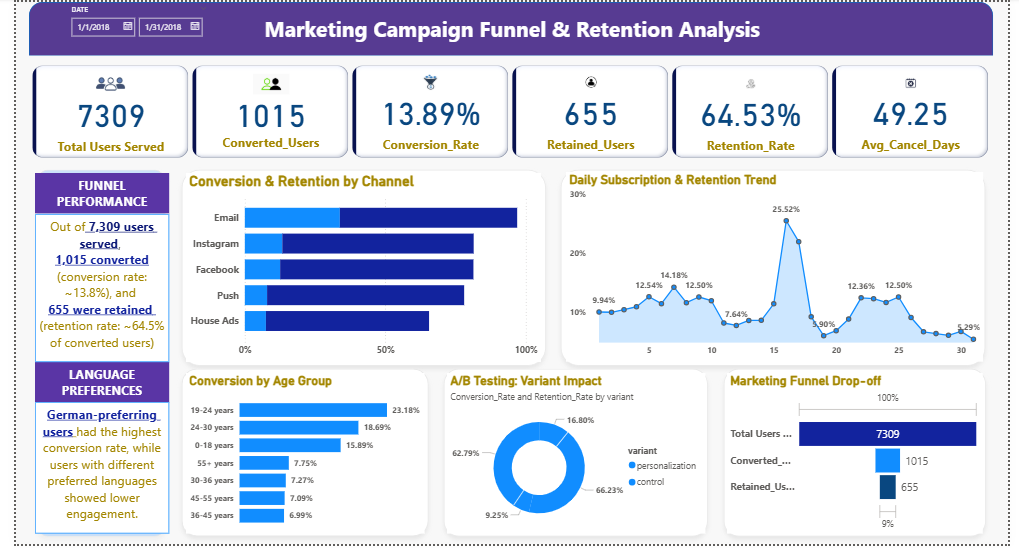

The page's visual inventory and layout, read from the dashboard file:
{"tool":"powerbi","page":{"name":"Report","canvas":[1500,820],"ordinal":0},"visuals":[{"type":"cardVisual","fields":{"Data":["_Measures.Total Users Served","_Measures.Converted_Users","_Measures.Conversion_Rate","_Measures.Retained_Users","_Measures.Retention_Rate","_Measures.Avg_Cancel_Days"]},"box":[20,91.4,1458.6,150],"z":0},{"type":"shape","box":[20,0,1458.6,81.4],"z":1000},{"type":"textbox","box":[344.3,14.3,811.4,54.3],"z":2000},{"type":"shape","box":[238.6,241.4,574.3,320],"z":3000},{"type":"barChart","title":"Conversion & Retention by Channel","fields":{"Category":["Marketing_Cleaned.marketing_channel"],"Y":["_Measures.Conversion_Rate","_Measures.Retention_Rate"]},"box":[257.1,258.6,537.1,285.7],"z":4000},{"type":"shape","box":[812.9,241.4,665.7,320],"z":5000},{"type":"slicer","title":"Daily Subscription & Retention Trend","fields":{"Values":["Marketing_Cleaned.date_served"]},"box":[71.4,0,230,81.4],"z":6000},{"type":"shape","box":[238.3,543.3,396.7,276.7],"z":7000},{"type":"shape","box":[635.7,542.9,422.9,277.1],"z":8000},{"type":"shape","box":[1058.6,542.9,420,277.1],"z":9000},{"type":"barChart","title":"Conversion by Age Group","fields":{"Category":["Marketing_Cleaned.age_group"],"Y":["_Measures.Conversion_Rate"]},"box":[257.5,561.7,360.8,242.5],"z":10000},{"type":"funnel","title":"Marketing Funnel Drop-off","fields":{"Y":["_Measures.Total Users Served","_Measures.Converted_Users","_Measures.Retained_Users"]},"box":[1075.7,561.4,387.1,242.9],"z":11000},{"type":"donutChart","title":"A/B Testing: Variant Impact","fields":{"Category":["Marketing_Cleaned.variant"],"Y":["_Measures.Conversion_Rate","_Measures.Retention_Rate"]},"box":[652.5,561.7,390.8,242.5],"z":12000},{"type":"shape","box":[20,241.4,218.6,578.6],"z":13000},{"type":"textbox","box":[28.6,544.3,202.9,61.4],"z":14000},{"type":"textbox","box":[28.6,320,202.9,224.3],"z":15000},{"type":"textbox","box":[28.6,258.6,202.9,61.4],"z":16000},{"type":"textbox","box":[28.6,605.7,202.9,198.6],"z":17000},{"type":"lineChart","title":"Daily Subscription & Retention Trend","fields":{"Y":["_Measures.Conversion_Rate"],"Category":["Marketing_Cleaned.Day"]},"box":[831.4,257.1,631.4,287.1],"z":18000}]}

Visuals, with their boxes in screenshot pixels (x1, y1, x2, y2), scaled from the page's 1500x820 canvas onto the 1019x548 screenshot:
cardVisual - _Measures.Total Users Served x _Measures.Converted_Users: rect(14, 61, 1004, 161)
shape: rect(14, 0, 1004, 54)
textbox: rect(234, 10, 785, 46)
shape: rect(162, 161, 552, 375)
"Conversion & Retention by Channel" barChart: rect(175, 173, 540, 364)
shape: rect(552, 161, 1004, 375)
"Daily Subscription & Retention Trend" slicer: rect(49, 0, 205, 54)
shape: rect(162, 363, 431, 547)
shape: rect(432, 363, 719, 547)
shape: rect(719, 363, 1004, 547)
"Conversion by Age Group" barChart: rect(175, 375, 420, 537)
"Marketing Funnel Drop-off" funnel: rect(731, 375, 994, 538)
"A/B Testing: Variant Impact" donutChart: rect(443, 375, 709, 537)
shape: rect(14, 161, 162, 547)
textbox: rect(19, 364, 157, 405)
textbox: rect(19, 214, 157, 364)
textbox: rect(19, 173, 157, 214)
textbox: rect(19, 405, 157, 538)
"Daily Subscription & Retention Trend" lineChart: rect(565, 172, 994, 364)
